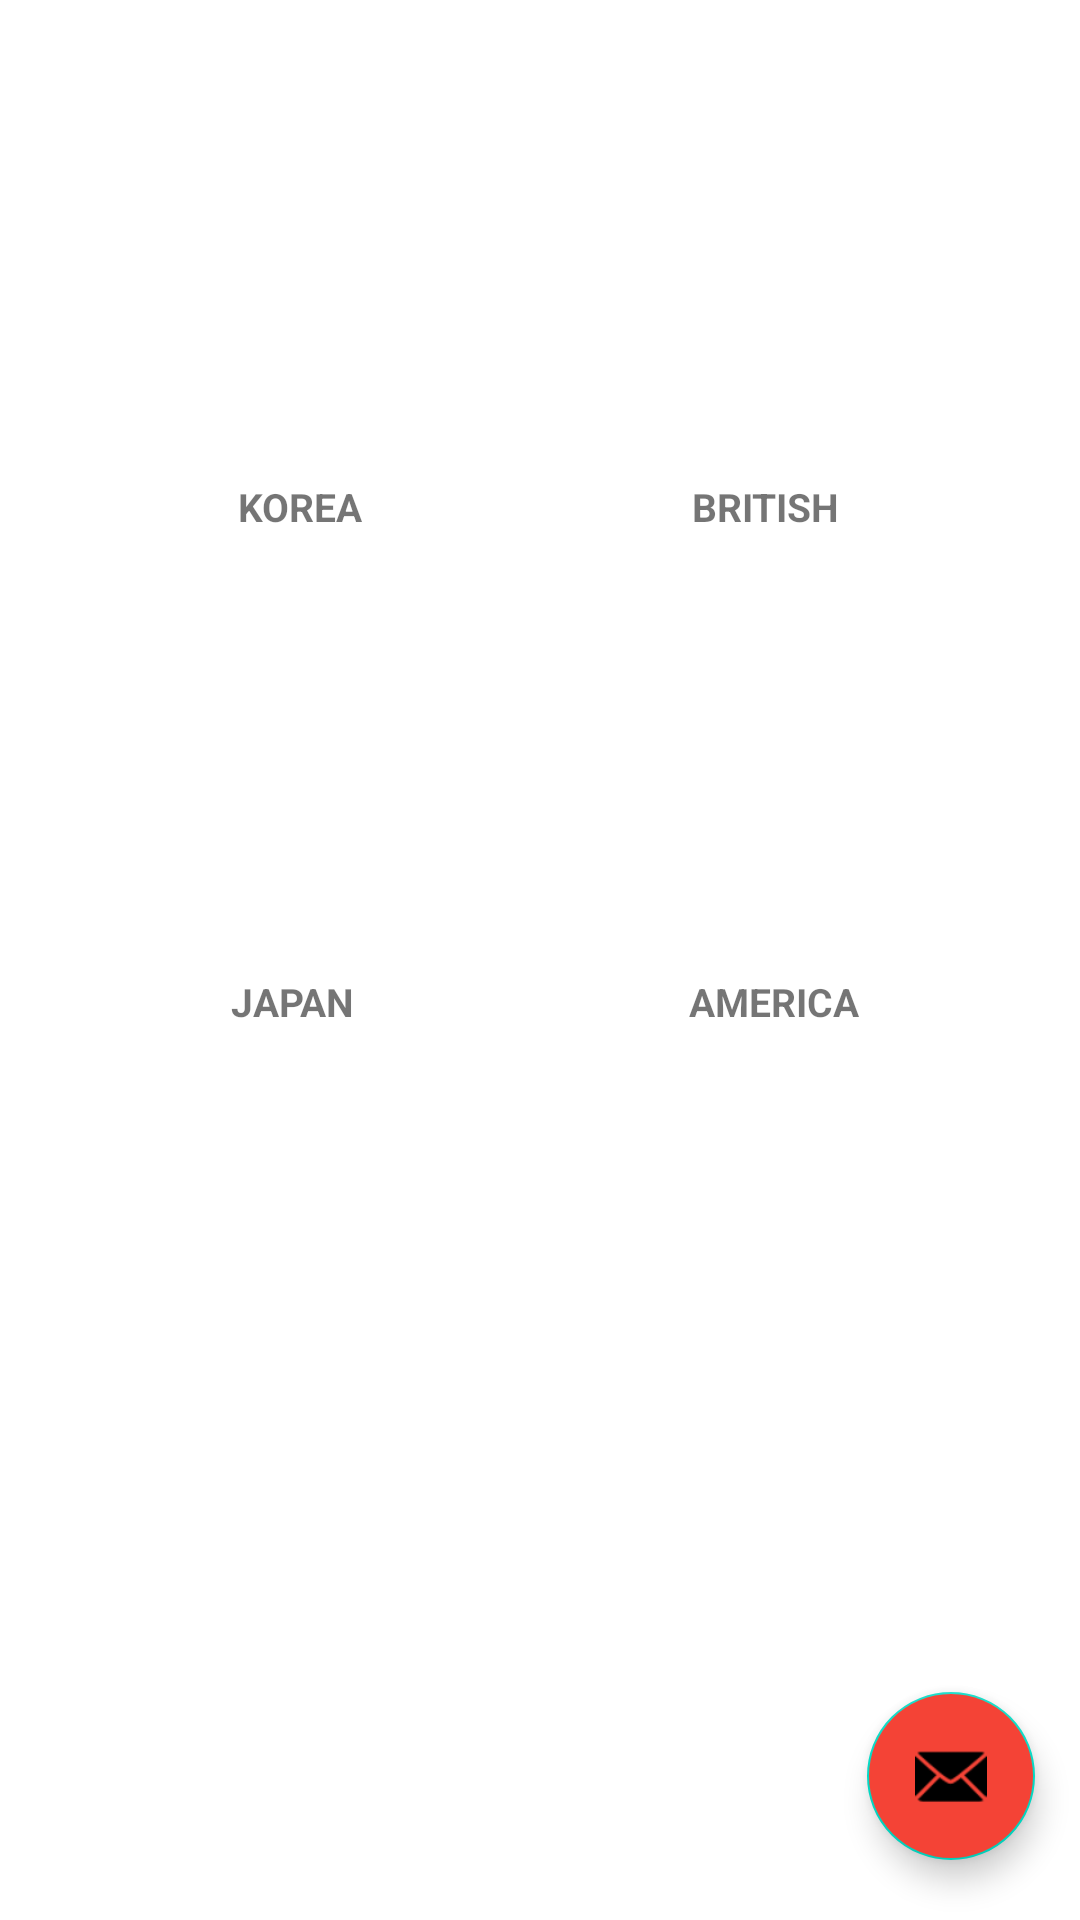

Icon bounding boxes for this 1080w x 1920h phone screenshot, format (x1, y1, x2, y2):
email: (867, 1692, 1035, 1860)
